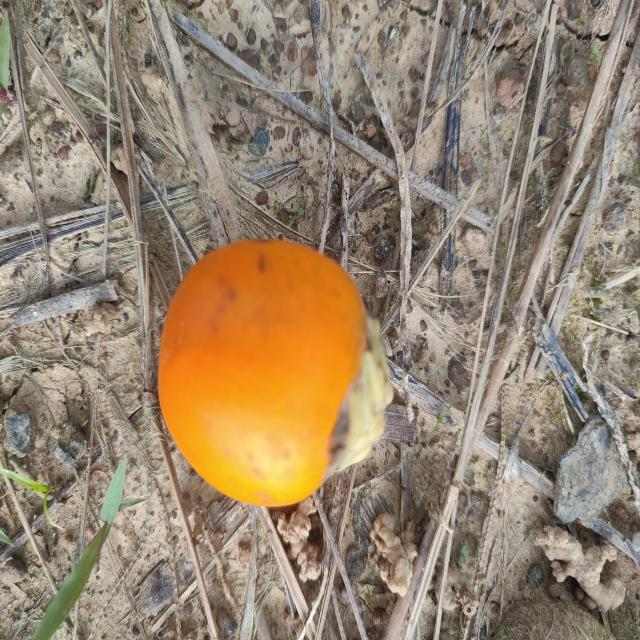good: (156, 241, 394, 510)
